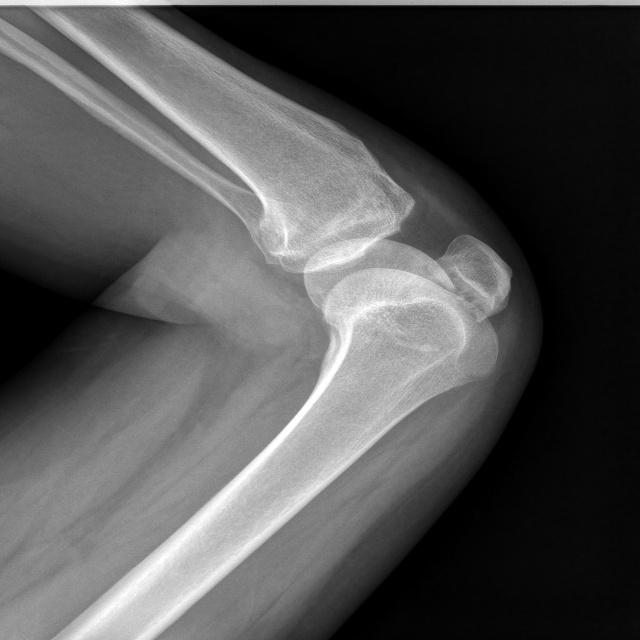Knee: (260, 163, 518, 386)
